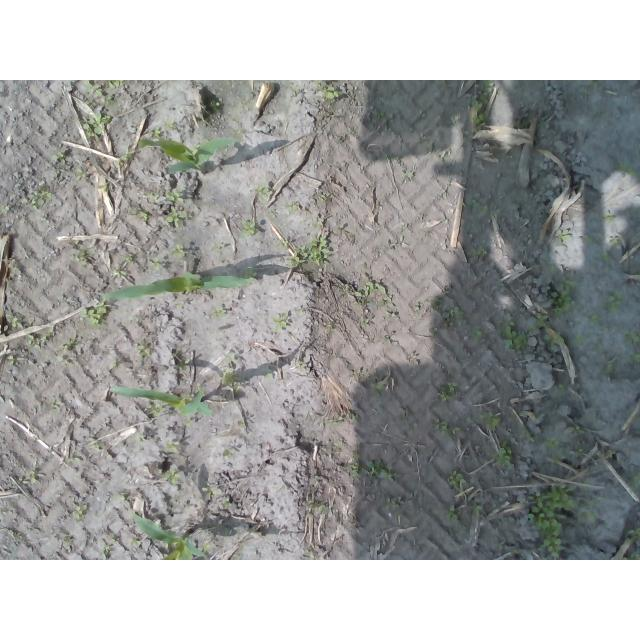Maize: (102, 270, 249, 302), (135, 136, 237, 176), (130, 512, 206, 561), (108, 384, 214, 417)
Weeds: (526, 477, 597, 560), (500, 312, 567, 353), (283, 233, 330, 268), (466, 80, 495, 132), (351, 279, 396, 309), (549, 274, 576, 315), (161, 188, 187, 228), (84, 80, 125, 105), (83, 113, 113, 139), (79, 302, 109, 327), (221, 353, 240, 392), (432, 418, 465, 439), (622, 328, 640, 366), (490, 440, 512, 469), (323, 412, 362, 428), (546, 436, 567, 465), (366, 460, 395, 480), (31, 187, 56, 210), (440, 306, 466, 326), (605, 288, 624, 313), (314, 81, 339, 100), (447, 469, 467, 492), (437, 382, 460, 402), (98, 536, 118, 559), (629, 521, 640, 560), (478, 414, 503, 431), (615, 162, 640, 178), (270, 312, 289, 333), (72, 503, 91, 522), (26, 333, 50, 348), (552, 228, 573, 245), (61, 337, 80, 355), (382, 495, 400, 513), (130, 204, 149, 221), (5, 314, 25, 330), (447, 503, 462, 523), (472, 201, 490, 217), (201, 485, 219, 500), (120, 144, 134, 163), (241, 223, 256, 240), (567, 422, 586, 435), (254, 185, 270, 200), (135, 343, 150, 359), (146, 403, 162, 418), (470, 247, 490, 258), (72, 249, 87, 263), (207, 99, 221, 114), (574, 443, 587, 459), (150, 256, 163, 272), (286, 202, 302, 215), (349, 463, 361, 480), (165, 470, 177, 487), (171, 245, 186, 258), (471, 503, 482, 520), (469, 327, 483, 340), (165, 440, 179, 453), (600, 213, 616, 224), (112, 494, 128, 505), (112, 268, 129, 278), (49, 399, 63, 411), (26, 469, 38, 483), (89, 439, 104, 450), (604, 362, 616, 375), (148, 126, 161, 138), (51, 151, 65, 162), (201, 541, 215, 552), (632, 471, 640, 490), (213, 306, 225, 318), (319, 192, 332, 203), (76, 168, 87, 181), (372, 383, 386, 393), (165, 119, 177, 130), (600, 253, 613, 263), (373, 111, 384, 122), (129, 537, 140, 548), (1, 205, 12, 216), (534, 411, 546, 421), (67, 456, 81, 464), (557, 383, 567, 394), (222, 496, 231, 508), (494, 543, 506, 552), (606, 449, 615, 460), (591, 312, 598, 325), (8, 355, 16, 366), (414, 303, 422, 313), (110, 359, 118, 369), (125, 255, 135, 261)
